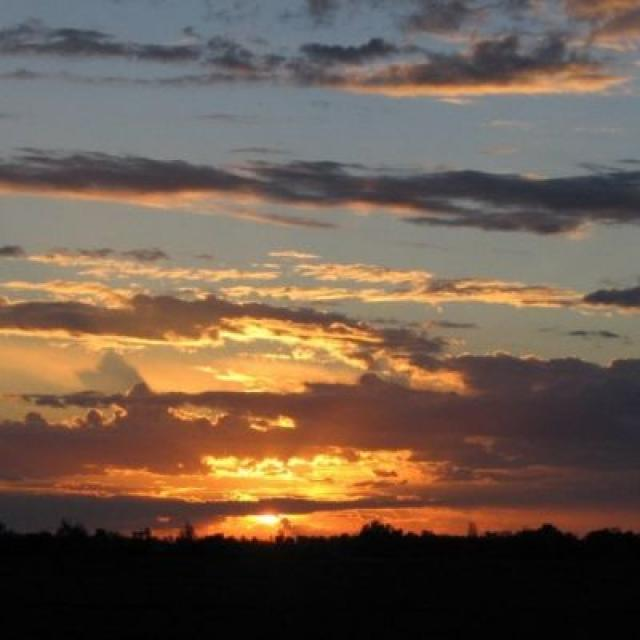Ac: (1, 24, 640, 486)
